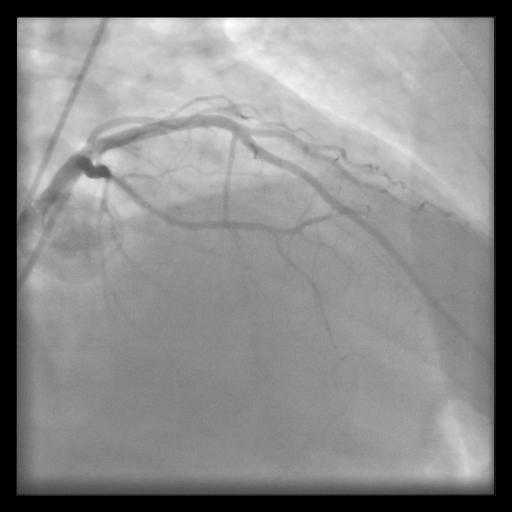Stenosis: (100, 165, 129, 190)
